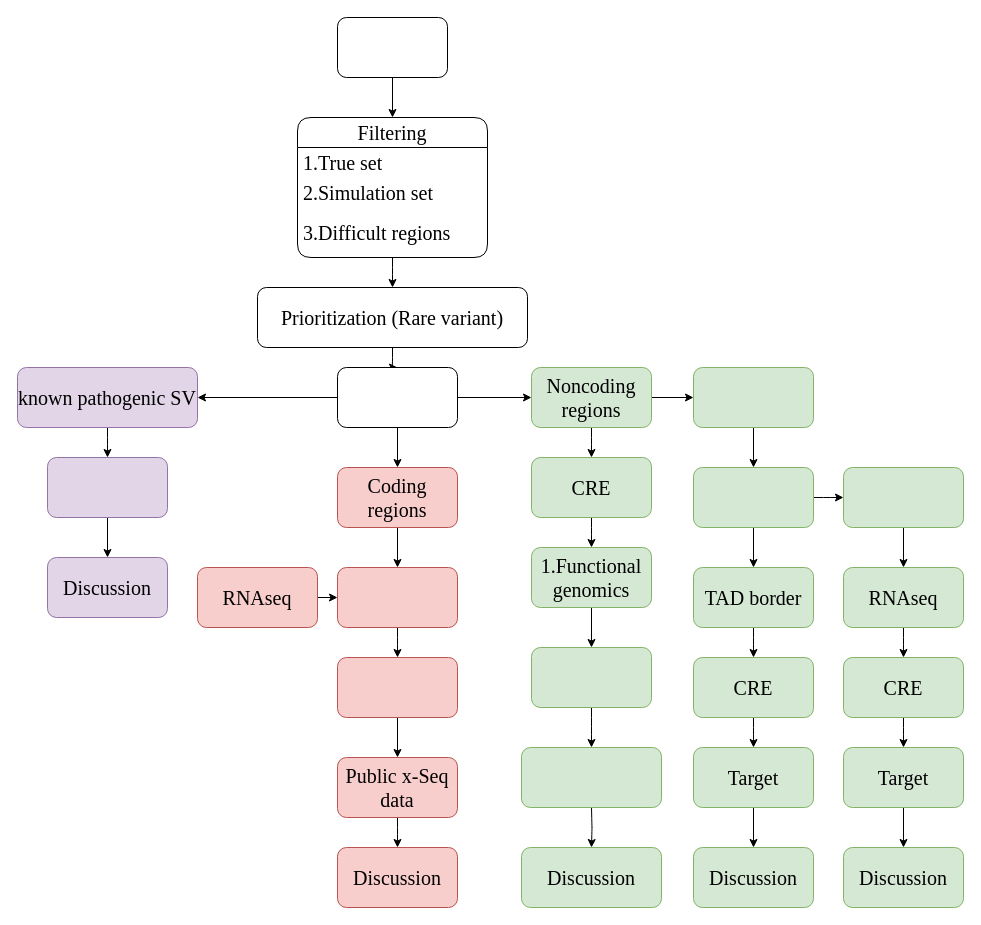
This 981x925 diagram has some shape labels left out. The shapes that lost their labels are listed below. From the top down, each one's centre as x and y in pixels, then its label:
(392,47): SV
(397,397): AF<0.1%
(753,397): TAD
(107,487): check Bam
(753,497): inter/intra
(903,497): abundant CRE/gene
(397,597): Sfari gene list
(397,687): Dosage sensitive
(591,677): 2.Functional genomics
(591,777): Candidates
